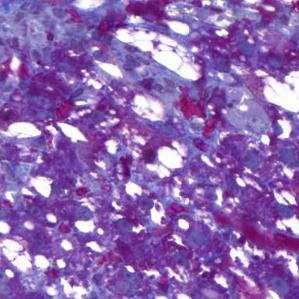ballooning: (115, 26, 204, 84)
